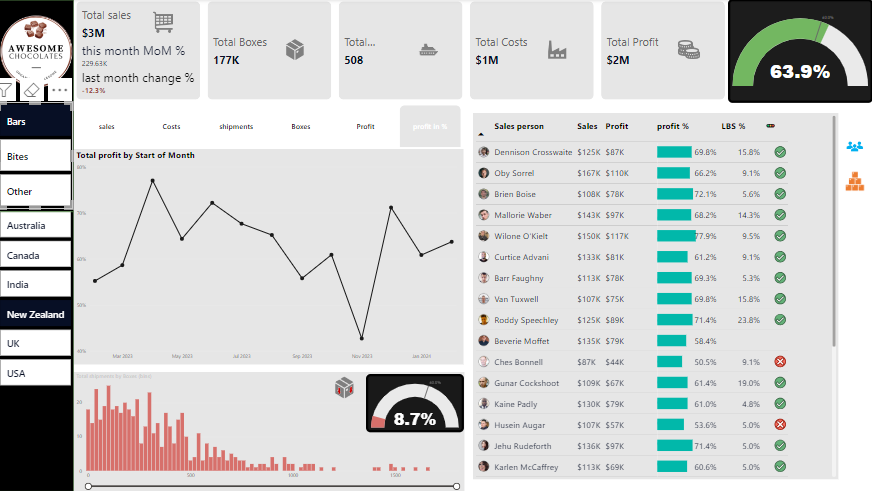

The dashboard page shown, as its layout file describes it:
{"tool":"powerbi","page":{"name":"Page 2","canvas":[1920,1080],"ordinal":0},"visuals":[{"type":"shape","box":[0,2.1,166,1078.7],"z":0},{"type":"cardVisual","fields":{"Data":["_measures.Total sales","_measures.Total Boxes","_measures.Total shipments","_measures.Total Costs","_measures.Total Profit"]},"box":[166.7,0,1435,226.7],"z":1000},{"type":"gauge","fields":{"Y":["_measures.profit %"]},"box":[1602.5,0,317.5,227.5],"z":2000},{"type":"image","box":[0,2.5,167.5,225],"z":3000},{"type":"lineChart","title":"Total profit by Start of Month","fields":{"Y":["_measures.profit %"],"Category":["calendar.Start of Month"]},"box":[167.5,330,855,472.5],"z":4000},{"type":"advancedSlicerVisual","fields":{"Values":["measure selector.measure selector"]},"box":[167.5,227.5,855,102.5],"z":5000},{"type":"columnChart","fields":{"Category":["shipments.Boxes (bins)"],"Y":["_measures.Total shipments"]},"box":[166,819.1,857.5,261.7],"z":6000},{"type":"gauge","fields":{"Y":["_measures.LBS %"]},"box":[808.5,823.4,214.9,127.7],"z":7000},{"type":"image","box":[710.6,819.1,97.9,68.1],"z":8000},{"type":"tableEx","title":"people details","fields":{"Values":["people.Picture","people.Sales person","_measures.Total sales","_measures.Total Profit","_measures.profit %","_measures.LBS %","_measures.Profit fit target"]},"box":[1042.3,250,801.9,803.9],"z":9000},{"type":"image","title":"product","box":[1844.7,368.1,74.5,61.7],"z":11000},{"type":"image","title":"people","box":[1844.7,278.7,74.5,89.4],"z":12000},{"type":"advancedSlicerVisual","fields":{"Values":["products.Category"]},"box":[0,226.9,165.4,234.6],"z":13000},{"type":"advancedSlicerVisual","fields":{"Values":["shipments.Geography"]},"box":[0,461.5,165.4,392.3],"z":14000},{"type":"shape","box":[0,323.1,165.4,288.5],"z":15000}]}

Visuals, with their boxes on the page's 1920x1080 design canvas (x1, y1, x2, y2). These are canvas units, not pixel positions in the 872x491 screenshot, which may show the page scaled, cropped or inside an application window:
shape: [left=0, top=2, right=166, bottom=1081]
cardVisual - _measures.Total sales x _measures.Total Boxes: [left=167, top=0, right=1602, bottom=227]
gauge - _measures.profit %: [left=1602, top=0, right=1920, bottom=228]
image: [left=0, top=2, right=168, bottom=228]
"Total profit by Start of Month" lineChart: [left=168, top=330, right=1022, bottom=802]
advancedSlicerVisual - measure selector.measure selector: [left=168, top=228, right=1022, bottom=330]
columnChart - shipments.Boxes (bins) x _measures.Total shipments: [left=166, top=819, right=1024, bottom=1081]
gauge - _measures.LBS %: [left=808, top=823, right=1023, bottom=951]
image: [left=711, top=819, right=808, bottom=887]
"people details" tableEx: [left=1042, top=250, right=1844, bottom=1054]
"product" image: [left=1845, top=368, right=1919, bottom=430]
"people" image: [left=1845, top=279, right=1919, bottom=368]
advancedSlicerVisual - products.Category: [left=0, top=227, right=165, bottom=462]
advancedSlicerVisual - shipments.Geography: [left=0, top=462, right=165, bottom=854]
shape: [left=0, top=323, right=165, bottom=612]
